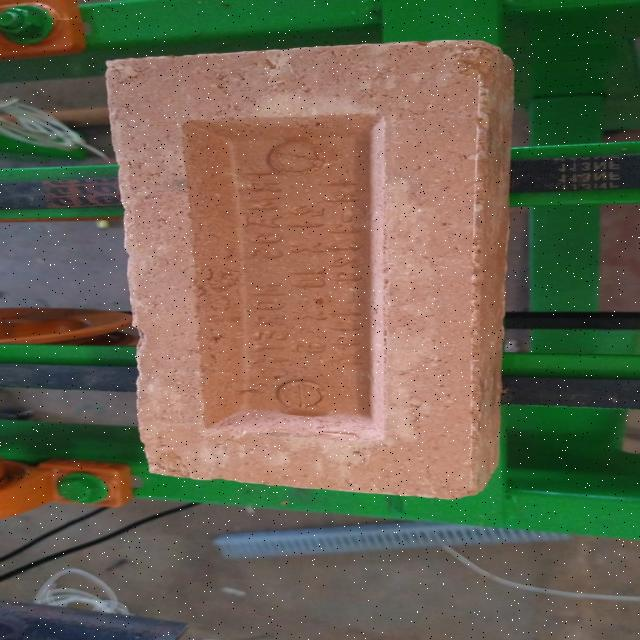bricks: (104, 37, 515, 503)
